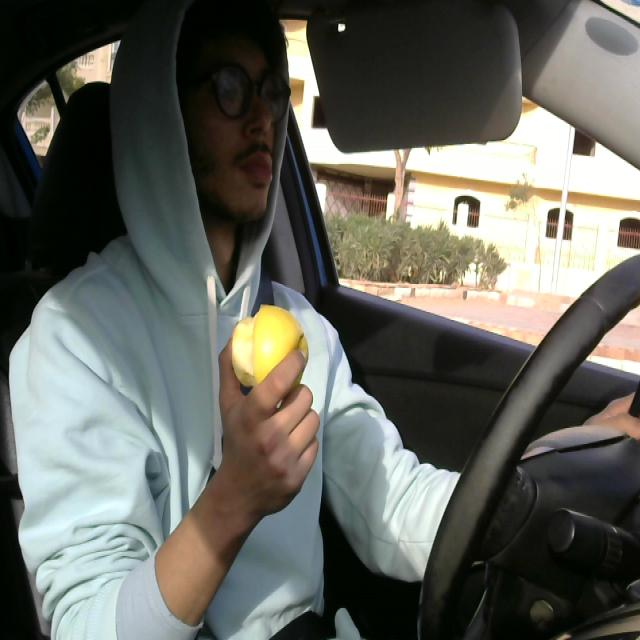eating: (219, 296, 304, 396)
